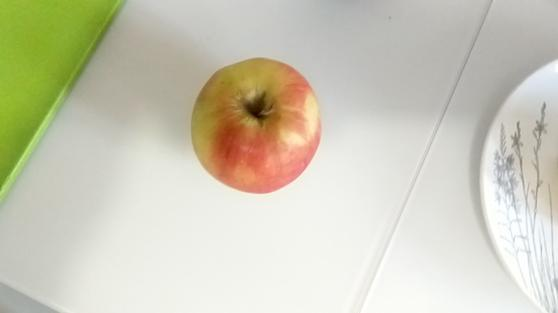apple: (190, 57, 323, 193)
